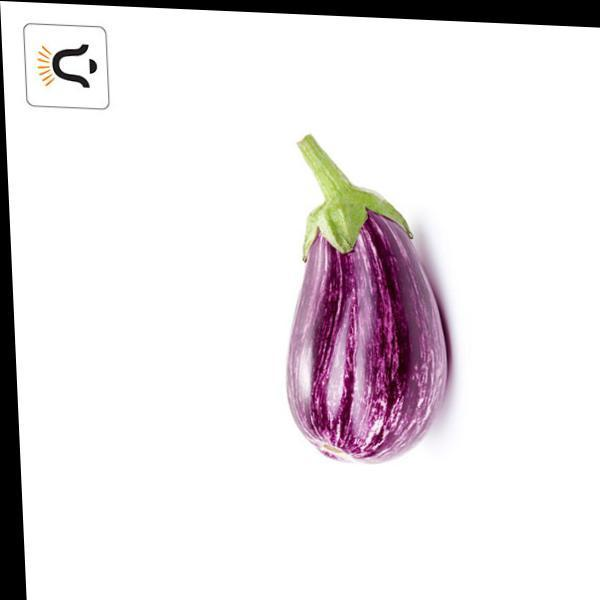eggplant: (234, 85, 472, 481)
